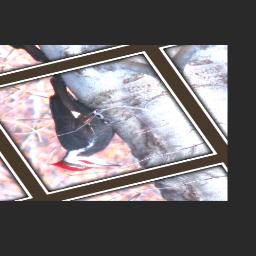Woodpecker: (0, 67, 149, 181)
